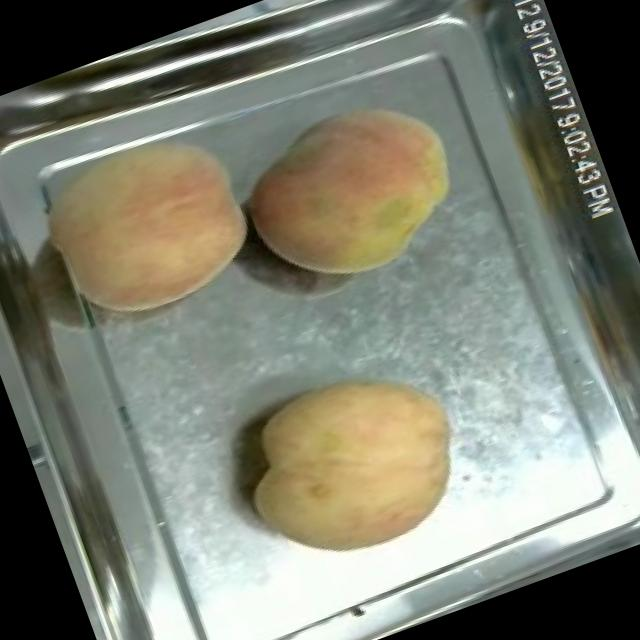Fruit: (217, 339, 489, 592), (14, 96, 280, 346), (220, 73, 486, 313)
